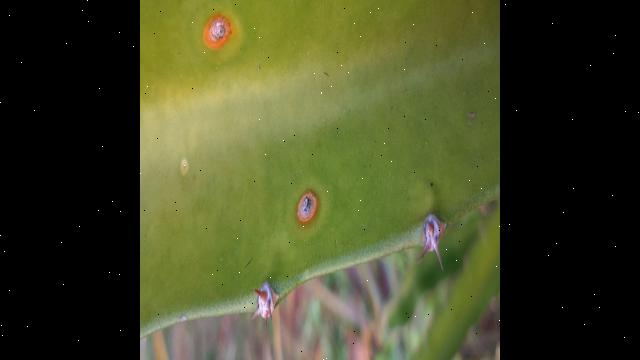stemcanker: (198, 10, 240, 54), (292, 187, 323, 226)
